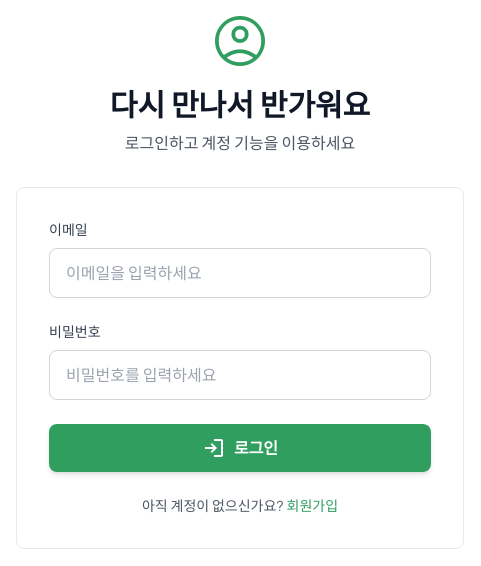
Login › LP-05: 로딩 상태 › 제출 후 응답 대기 중 버튼이 비활성화된다
This screenshot has width=481, height=566.
In the field labelled "이메일": (240, 273) [49,248,431,298], type "test@example.com"
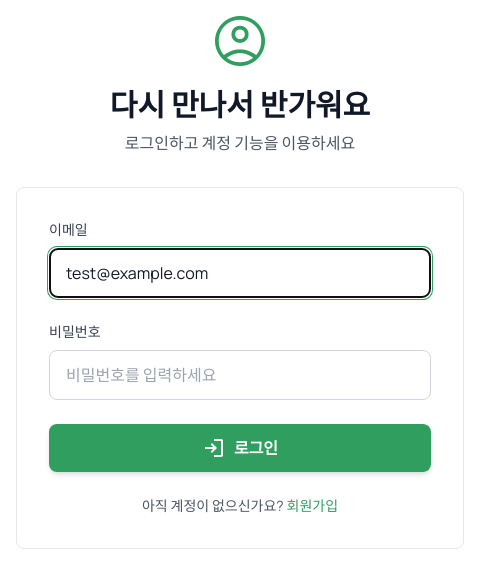
In the password field labelled "비밀번호": (240, 375) [49,350,431,400], type "password123"
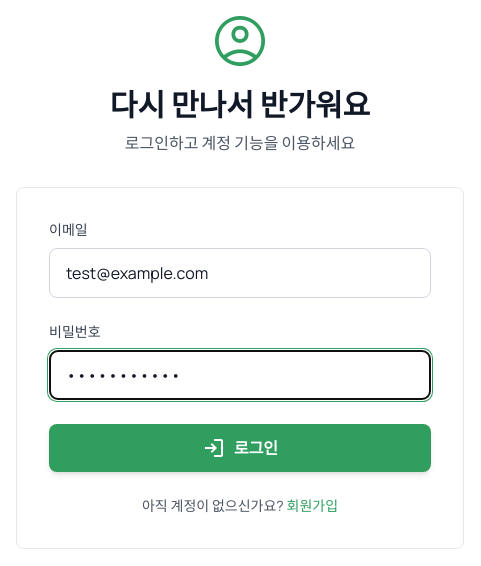
Click the button "로그인": (240, 448) [49,424,431,472]
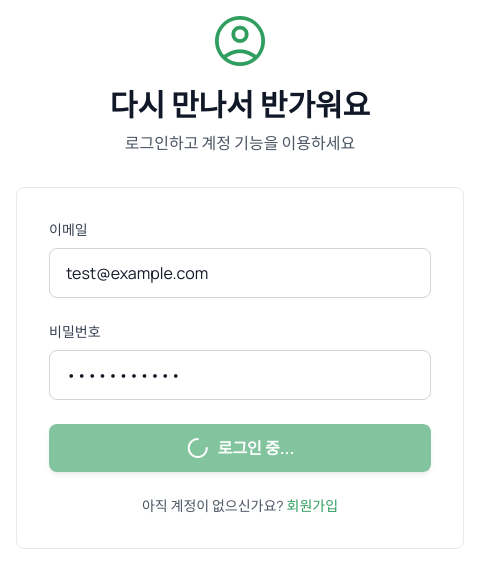
Now the button "로그인 중..." is disabled, box [49,424,431,472]
